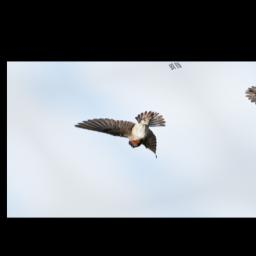Swallow: (70, 103, 190, 171)
